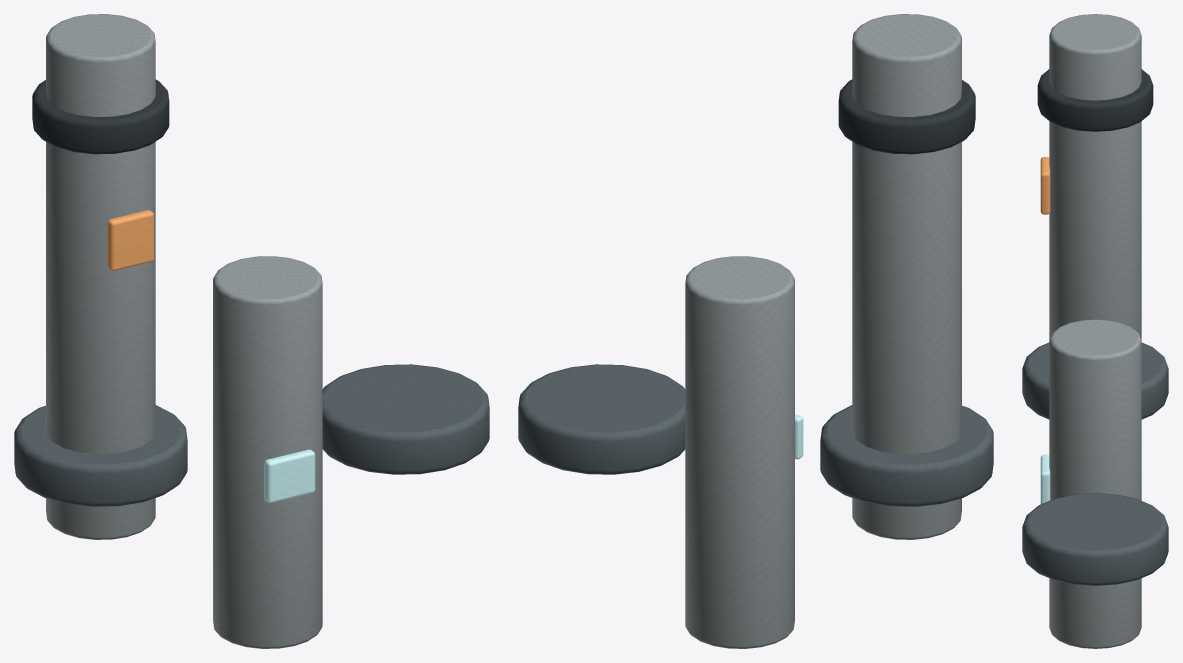
The model's file is PipeElbow.glb.
The picture shows the model from 3 angles, left to right: view 1: azimuth 30°, elevation 25°; view 2: azimuth 150°, elevation 25°; view 3: azimuth 270°, elevation 25°; orthographic projection. The views are drawn at different scales.
Parts seen in each view (by area): view 1: PipeElbow_Mesh; view 2: PipeElbow_Mesh; view 3: PipeElbow_Mesh.
Part boxes in pixels (x1,y1,x2,y2): PipeElbow_Mesh: [14, 14, 489, 648]; PipeElbow_Mesh: [518, 14, 993, 648]; PipeElbow_Mesh: [1022, 14, 1168, 648].
Size of the model in its own units: 1.14 by 1.52 by 0.38.
5 materials, 5 textured.
